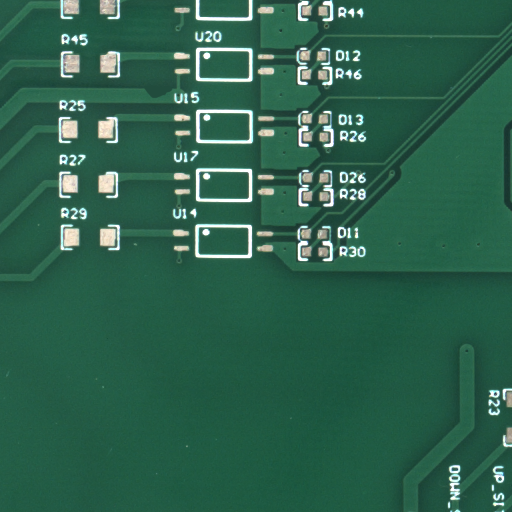Mouse_bite: (158, 90, 194, 109)
